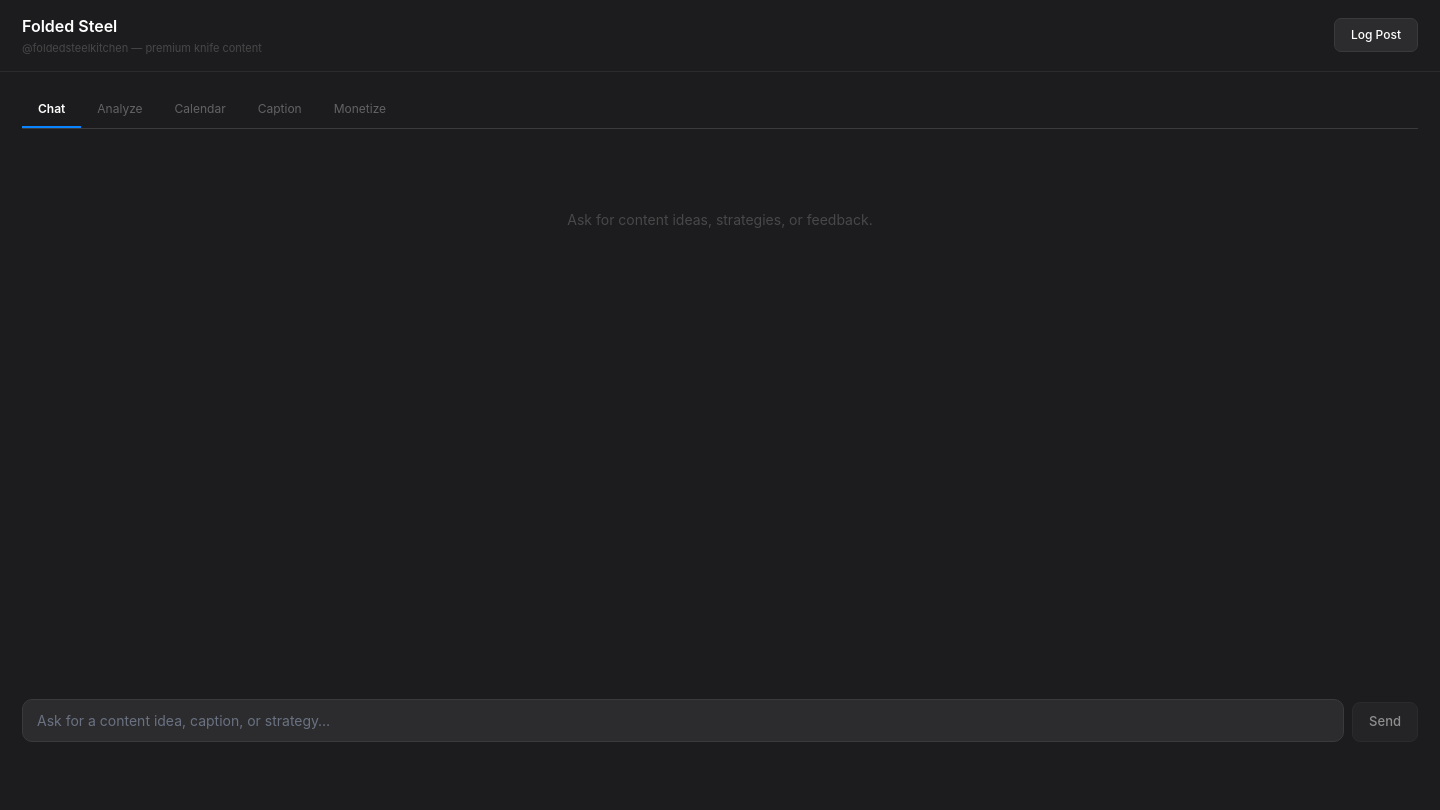
Test: sends message and shows response
This screenshot has width=1440, height=810.
Type "Give me a reel idea" into the text box with placeholder "Ask for a content idea, caption, or strategy…" at (683, 720), box [22, 698, 1344, 742]
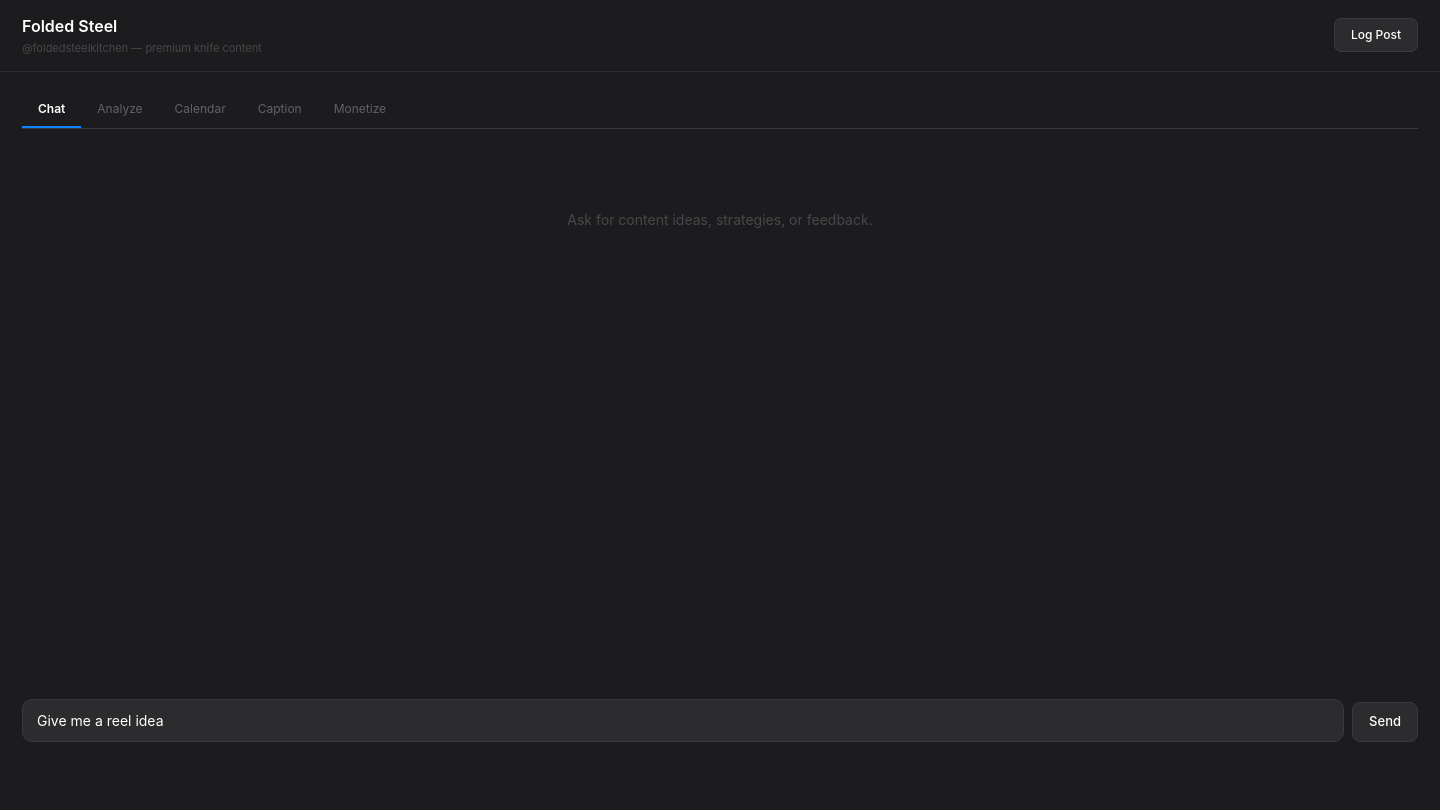
Click the button "Send" at (1385, 722), box [1352, 702, 1418, 742]
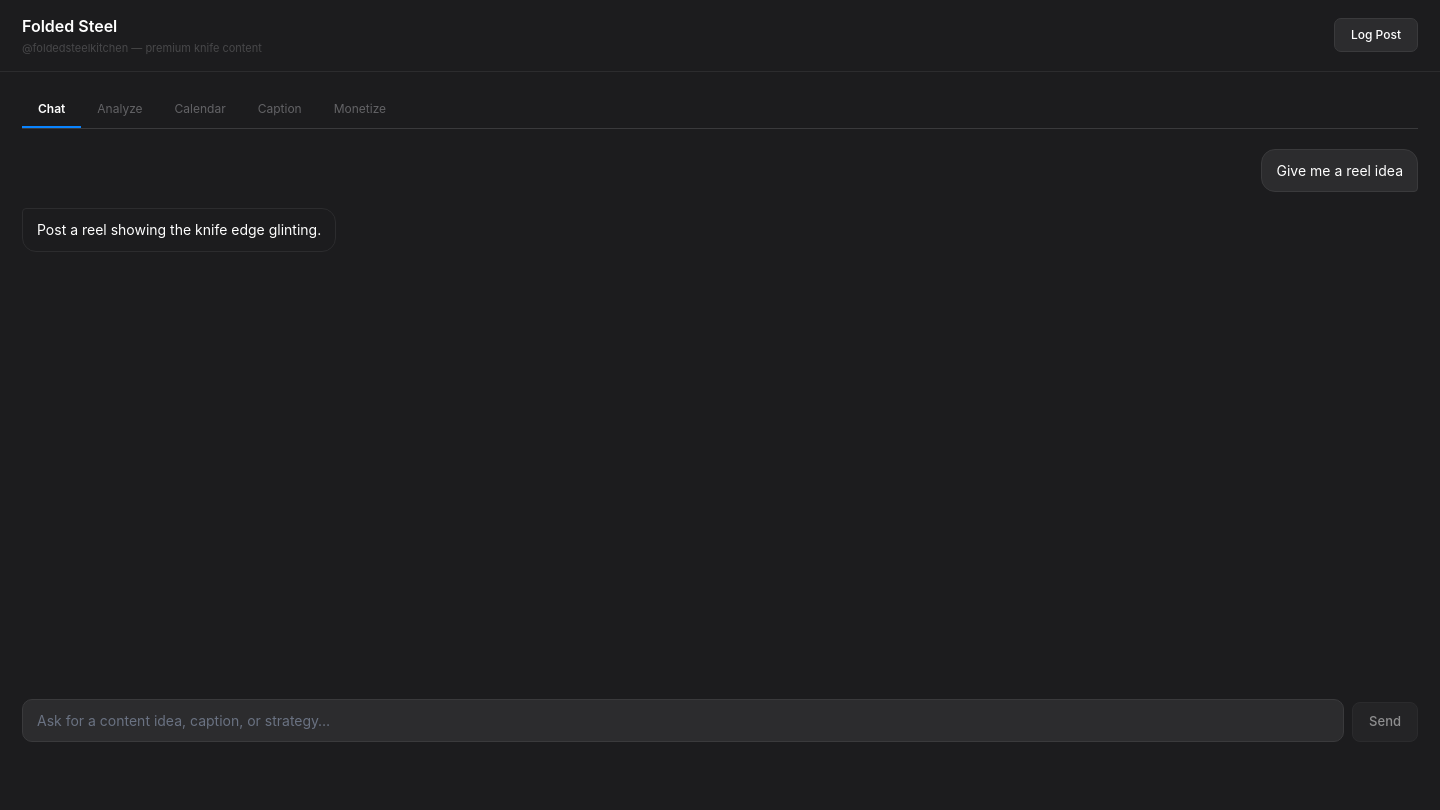
Now the text "Give me a reel idea" is shown, box [1276, 160, 1403, 180]
Now the text "Post a reel showing the knife edge glinting." is shown, box [37, 218, 321, 241]
